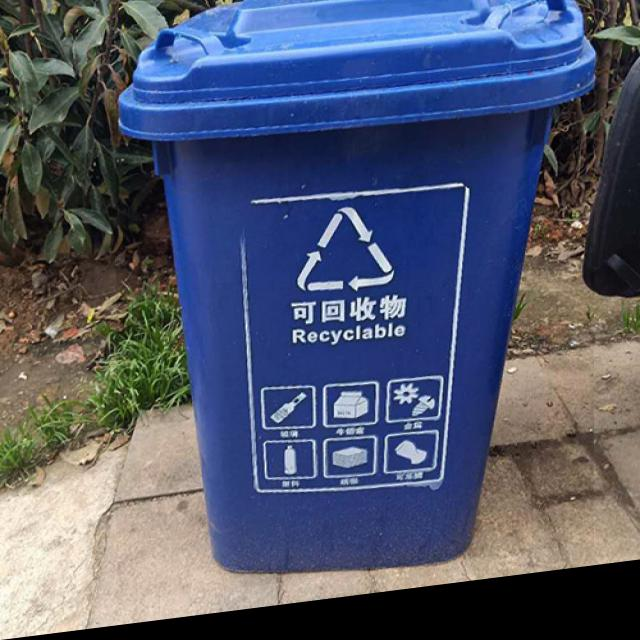garbage_bin: (116, 0, 594, 607)
